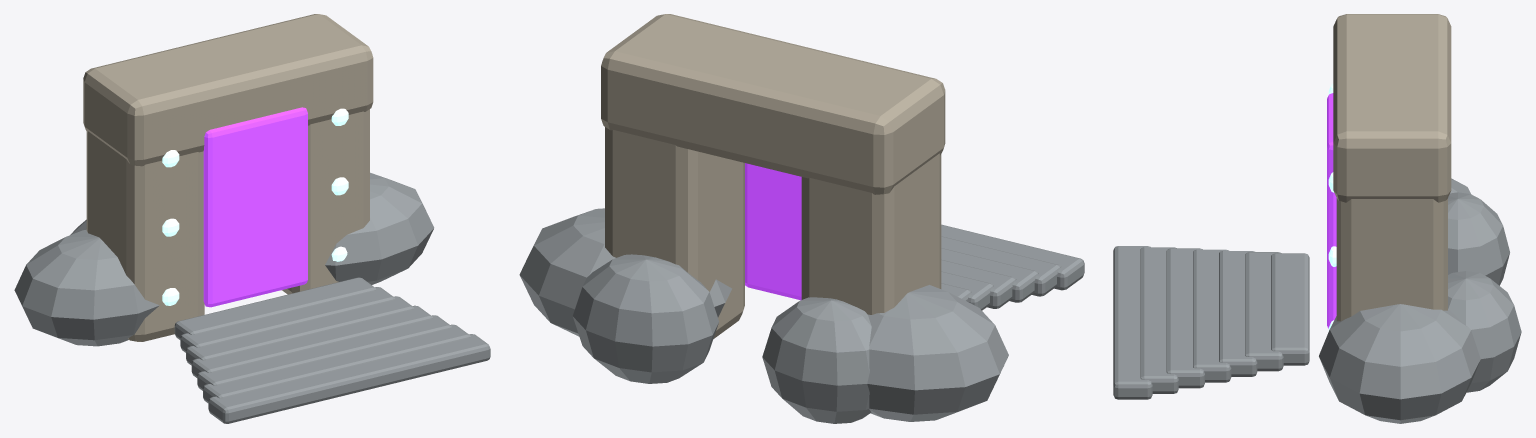
File: RF_Building_DungeonGate_V2.fbx
3 renders of one model, left to right at view 1: azimuth 30°, elevation 25°; view 2: azimuth 150°, elevation 25°; view 3: azimuth 270°, elevation 25°, orthographic. The views are drawn at different scales.
Visible parts, largest first — view 1: Dungeon_Lintel.001, Dungeon_Portal.001, Dungeon_LeftPier.001, Dungeon_Rock.004, Dungeon_RightPier.001, Dungeon_Step.013, Dungeon_Rock.005, Dungeon_Step.012, Dungeon_Step.011, Dungeon_Step.007, Dungeon_Step.010, Dungeon_Step.009 (+1 smaller); view 2: Dungeon_Lintel.001, Dungeon_RightPier.001, Dungeon_LeftPier.001, Dungeon_Rock.004, Dungeon_Rock.007, Dungeon_Rock.006, Dungeon_Rock.005, Dungeon_Portal.001, Dungeon_Step.013, Dungeon_Step.012, Dungeon_Step.011, Dungeon_Step.010 (+1 smaller); view 3: Dungeon_Lintel.001, Dungeon_Rock.005, Dungeon_RightPier.001, Dungeon_Rock.007, Dungeon_Step.013, Dungeon_Rock.006, Dungeon_Step.007, Dungeon_Step.012, Dungeon_Step.011, Dungeon_Step.010, Dungeon_Step.009, Dungeon_Step.008 (+1 smaller).
Boxes of the visible parts, x1=… form: Dungeon_Lintel.001: x1=83, y1=14, x2=373, y2=166; Dungeon_Portal.001: x1=203, y1=107, x2=307, y2=307; Dungeon_LeftPier.001: x1=86, y1=131, x2=204, y2=341; Dungeon_Rock.004: x1=14, y1=229, x2=159, y2=346; Dungeon_RightPier.001: x1=282, y1=109, x2=369, y2=294; Dungeon_Step.013: x1=208, y1=334, x2=490, y2=423; Dungeon_Rock.005: x1=325, y1=172, x2=434, y2=284; Dungeon_Step.012: x1=203, y1=324, x2=470, y2=402; Dungeon_Step.011: x1=197, y1=315, x2=451, y2=390; Dungeon_Step.007: x1=174, y1=277, x2=376, y2=339; Dungeon_Step.010: x1=191, y1=305, x2=432, y2=377; Dungeon_Step.009: x1=186, y1=296, x2=414, y2=365; Dungeon_Lintel.001: x1=601, y1=14, x2=945, y2=194; Dungeon_RightPier.001: x1=605, y1=127, x2=744, y2=338; Dungeon_LeftPier.001: x1=801, y1=153, x2=941, y2=314; Dungeon_Rock.004: x1=867, y1=285, x2=1008, y2=421; Dungeon_Rock.007: x1=572, y1=254, x2=718, y2=383; Dungeon_Rock.006: x1=762, y1=297, x2=871, y2=423; Dungeon_Rock.005: x1=519, y1=208, x2=731, y2=336; Dungeon_Portal.001: x1=745, y1=163, x2=801, y2=300; Dungeon_Step.013: x1=941, y1=224, x2=1084, y2=290; Dungeon_Step.012: x1=941, y1=236, x2=1061, y2=296; Dungeon_Step.011: x1=941, y1=248, x2=1038, y2=302; Dungeon_Step.010: x1=941, y1=259, x2=1016, y2=308; Dungeon_Lintel.001: x1=1333, y1=14, x2=1451, y2=202; Dungeon_Rock.005: x1=1319, y1=304, x2=1480, y2=423; Dungeon_RightPier.001: x1=1336, y1=198, x2=1447, y2=321; Dungeon_Rock.007: x1=1448, y1=271, x2=1521, y2=392; Dungeon_Step.013: x1=1113, y1=246, x2=1152, y2=399; Dungeon_Rock.006: x1=1448, y1=192, x2=1509, y2=285; Dungeon_Step.007: x1=1271, y1=253, x2=1309, y2=365; Dungeon_Step.012: x1=1140, y1=247, x2=1178, y2=393; Dungeon_Step.011: x1=1166, y1=248, x2=1204, y2=388; Dungeon_Step.010: x1=1193, y1=249, x2=1231, y2=382; Dungeon_Step.009: x1=1219, y1=251, x2=1257, y2=376; Dungeon_Step.008: x1=1245, y1=252, x2=1283, y2=371.
Size of the model in its own units: 6.05 by 4.99 by 3.7.
